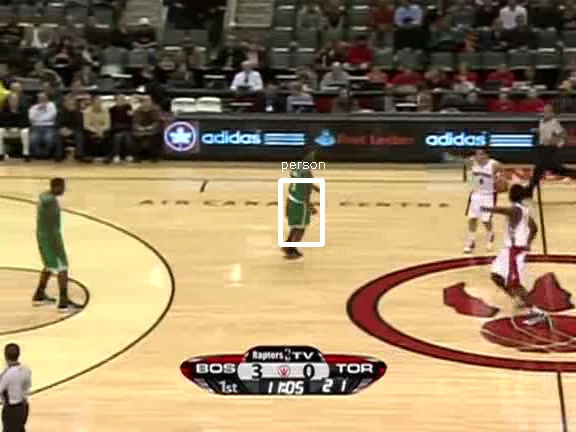person: (283, 157, 317, 238), (282, 157, 316, 238), (284, 157, 318, 238), (283, 156, 317, 237), (283, 158, 317, 239)
target_negative: (252, 154, 460, 341), (453, 60, 564, 355), (198, 123, 254, 340), (405, 403, 564, 419), (423, 250, 477, 288), (66, 410, 343, 411)
